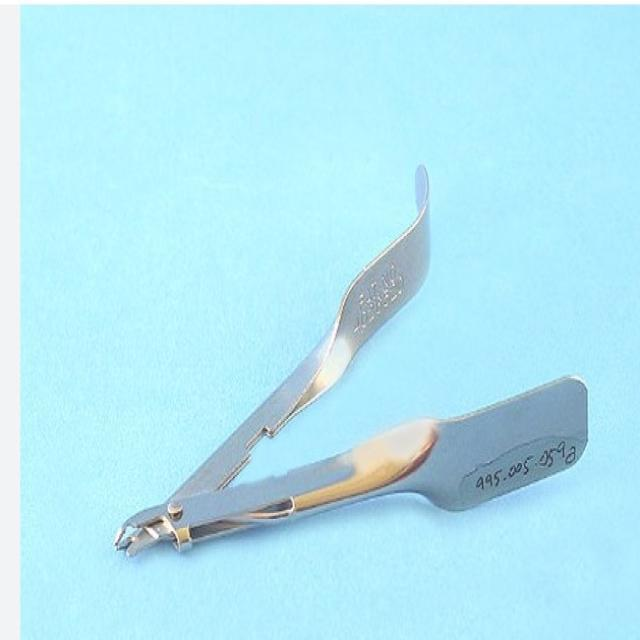Stapler Remover: (113, 153, 590, 560)
